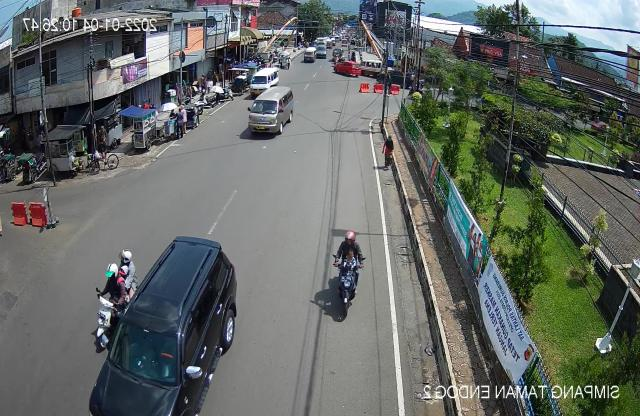Mobil: (87, 234, 244, 416), (247, 86, 296, 139)
Motor: (88, 248, 140, 349), (326, 228, 367, 319)
